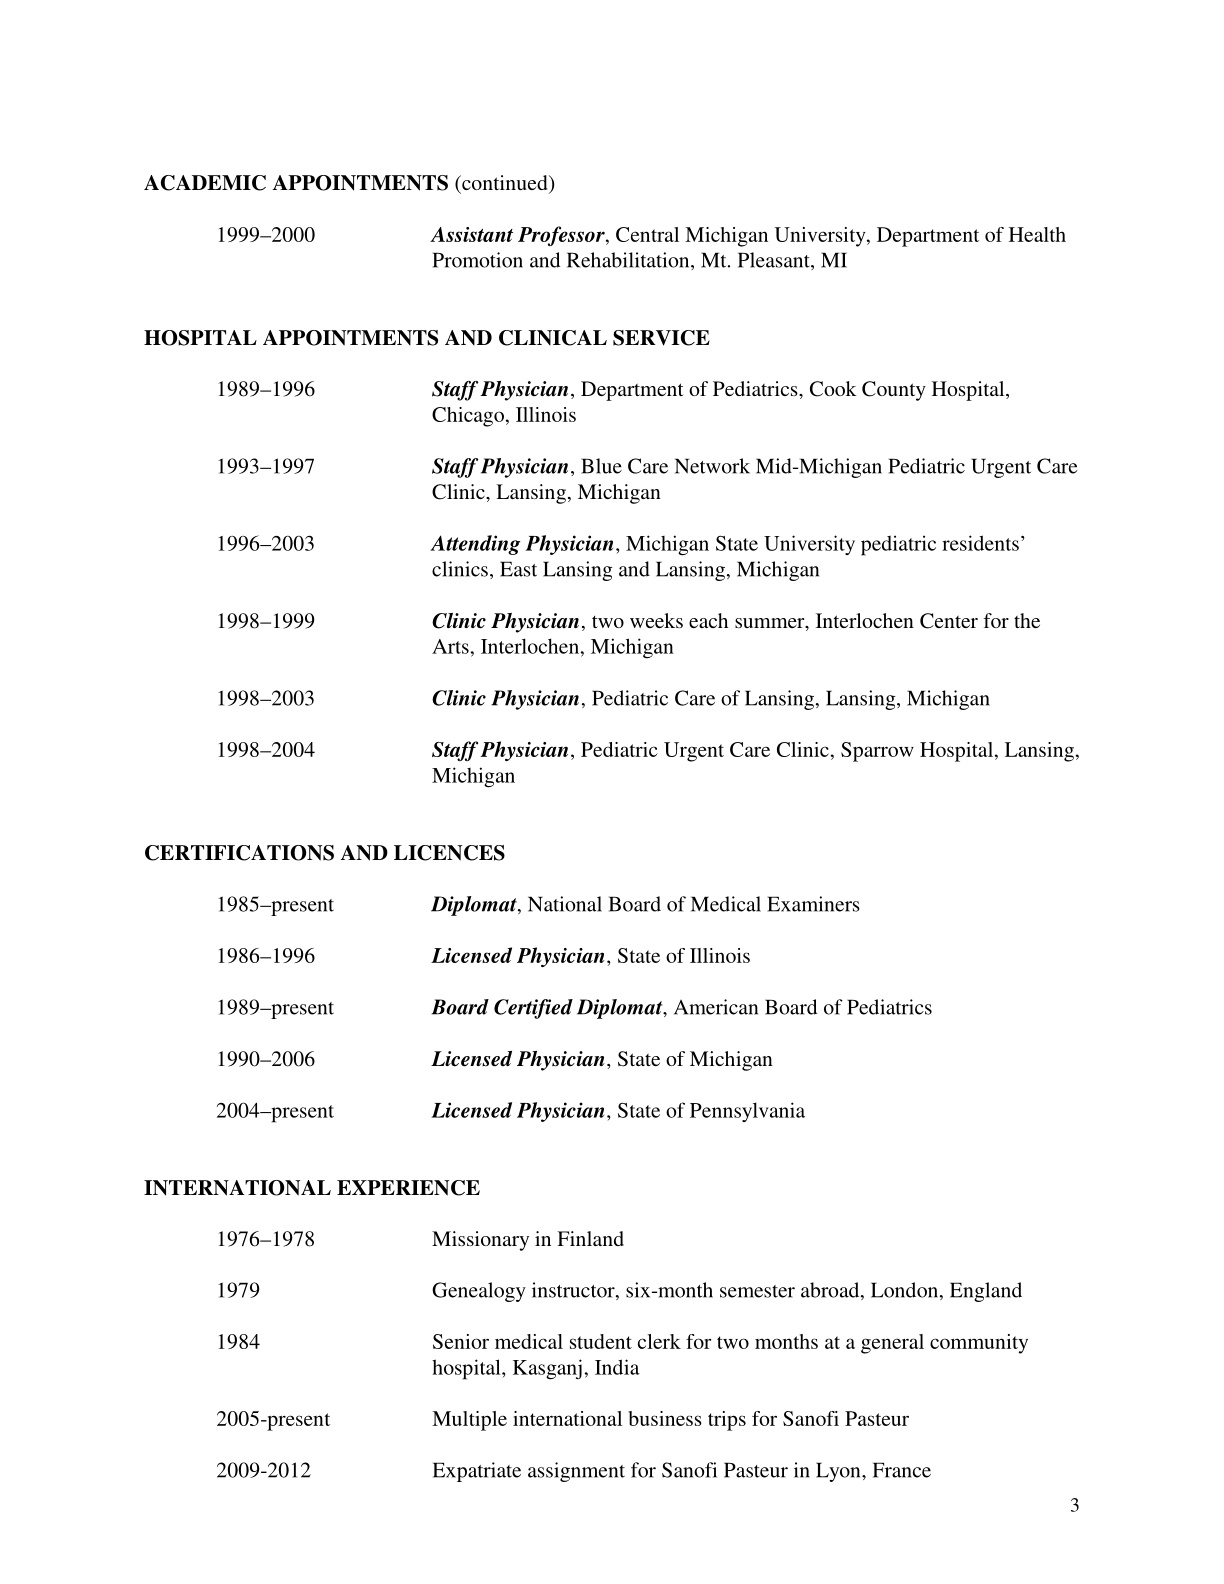nolines: (213, 375, 1080, 789), (215, 1227, 1030, 1482), (215, 891, 935, 1125), (208, 221, 1068, 269)
